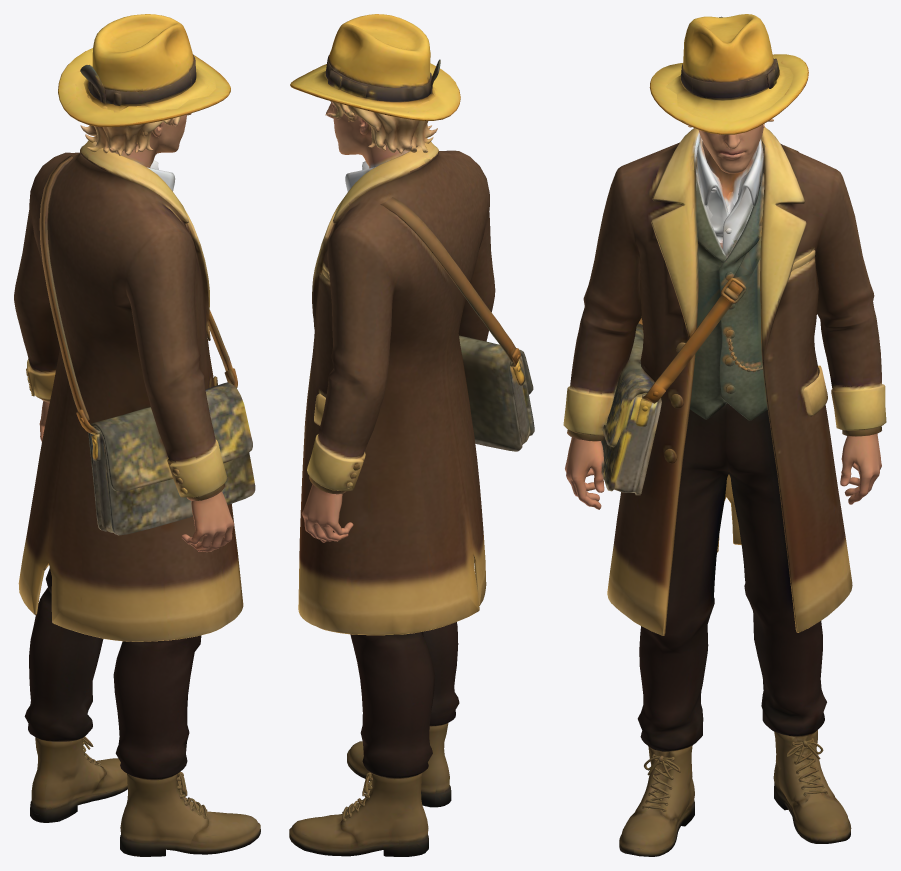
File: detective.glb
The picture shows the model from 3 angles, left to right: view 1: azimuth 30°, elevation 25°; view 2: azimuth 150°, elevation 25°; view 3: azimuth 270°, elevation 25°; orthographic projection. The views are drawn at different scales.
Parts seen in each view (by area): view 1: tripo_part_2_Clone, tripo_part_5_Clone, tripo_part_9_Clone, tripo_part_14_Clone, tripo_part_8_Clone, tripo_part_13_Clone, tripo_part_22_Clone, tripo_part_17_Clone, tripo_part_11_Clone, tripo_part_6_Clone, tripo_part_3_Clone, tripo_part_1_Clone; view 2: tripo_part_2_Clone, tripo_part_5_Clone, tripo_part_13_Clone, tripo_part_8_Clone, tripo_part_9_Clone, tripo_part_17_Clone, tripo_part_22_Clone, tripo_part_3_Clone, tripo_part_14_Clone, tripo_part_11_Clone, tripo_part_7_Clone, tripo_part_1_Clone; view 3: tripo_part_2_Clone, tripo_part_5_Clone, tripo_part_4_Clone, tripo_part_9_Clone, tripo_part_8_Clone, tripo_part_13_Clone, tripo_part_14_Clone, tripo_part_11_Clone, tripo_part_22_Clone, tripo_part_10_Clone, tripo_part_1_Clone, tripo_part_17_Clone (+3 smaller).
Part boxes in pixels (bbox=[...]): tripo_part_2_Clone: bbox=[14, 140, 243, 641]; tripo_part_5_Clone: bbox=[24, 568, 201, 780]; tripo_part_9_Clone: bbox=[88, 382, 255, 535]; tripo_part_14_Clone: bbox=[120, 773, 260, 856]; tripo_part_8_Clone: bbox=[92, 14, 193, 91]; tripo_part_13_Clone: bbox=[30, 737, 127, 822]; tripo_part_22_Clone: bbox=[58, 48, 230, 127]; tripo_part_17_Clone: bbox=[39, 155, 237, 420]; tripo_part_11_Clone: bbox=[83, 54, 216, 110]; tripo_part_6_Clone: bbox=[181, 491, 233, 552]; tripo_part_3_Clone: bbox=[80, 95, 180, 155]; tripo_part_1_Clone: bbox=[114, 114, 187, 167]; tripo_part_2_Clone: bbox=[298, 138, 495, 635]; tripo_part_5_Clone: bbox=[350, 622, 459, 779]; tripo_part_13_Clone: bbox=[289, 773, 428, 856]; tripo_part_8_Clone: bbox=[327, 14, 430, 88]; tripo_part_9_Clone: bbox=[459, 335, 534, 451]; tripo_part_17_Clone: bbox=[380, 197, 515, 362]; tripo_part_22_Clone: bbox=[290, 63, 460, 120]; tripo_part_3_Clone: bbox=[325, 87, 437, 153]; tripo_part_14_Clone: bbox=[347, 723, 451, 807]; tripo_part_11_Clone: bbox=[305, 55, 435, 107]; tripo_part_7_Clone: bbox=[301, 484, 353, 542]; tripo_part_1_Clone: bbox=[326, 101, 409, 168]; tripo_part_2_Clone: bbox=[563, 127, 886, 635]; tripo_part_5_Clone: bbox=[637, 403, 826, 751]; tripo_part_4_Clone: bbox=[690, 173, 767, 420]; tripo_part_9_Clone: bbox=[601, 323, 661, 495]; tripo_part_8_Clone: bbox=[683, 14, 773, 82]; tripo_part_13_Clone: bbox=[773, 730, 851, 843]; tripo_part_14_Clone: bbox=[619, 745, 694, 856]; tripo_part_11_Clone: bbox=[665, 58, 793, 121]; tripo_part_22_Clone: bbox=[649, 54, 808, 134]; tripo_part_10_Clone: bbox=[697, 137, 763, 257]; tripo_part_1_Clone: bbox=[698, 124, 764, 248]; tripo_part_17_Clone: bbox=[641, 145, 798, 403].
Bounding box in the file's own units: 0.2427 × 0.9995 × 0.3618.
1 material, 1 textured.
